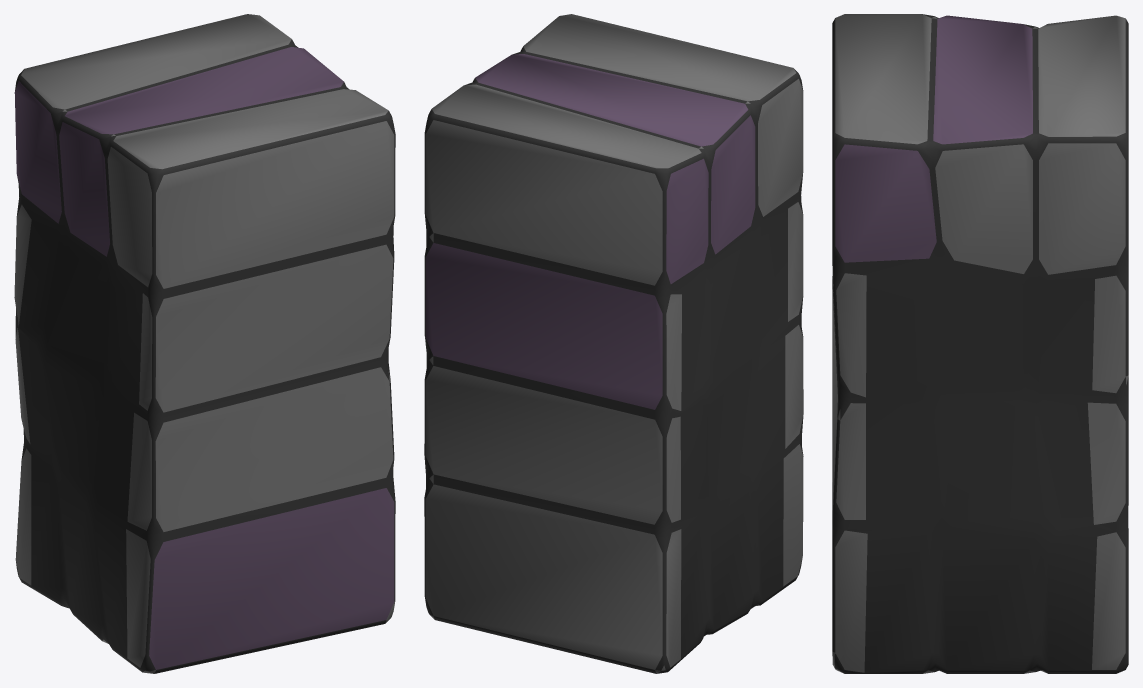
File: BoneWallExit.glb
3 renders of one model, left to right at view 1: azimuth 30°, elevation 25°; view 2: azimuth 150°, elevation 25°; view 3: azimuth 270°, elevation 25°, orthographic. The views are drawn at different scales.
Parts seen in each view (by area): view 1: Cube; view 2: Cube; view 3: Cube.
Boxes of the visible parts, x1=… form: Cube: x1=14, y1=14, x2=395, y2=673; Cube: x1=424, y1=14, x2=803, y2=673; Cube: x1=832, y1=14, x2=1128, y2=673.
Size of the model in its own units: 2.12 by 4 by 2.
